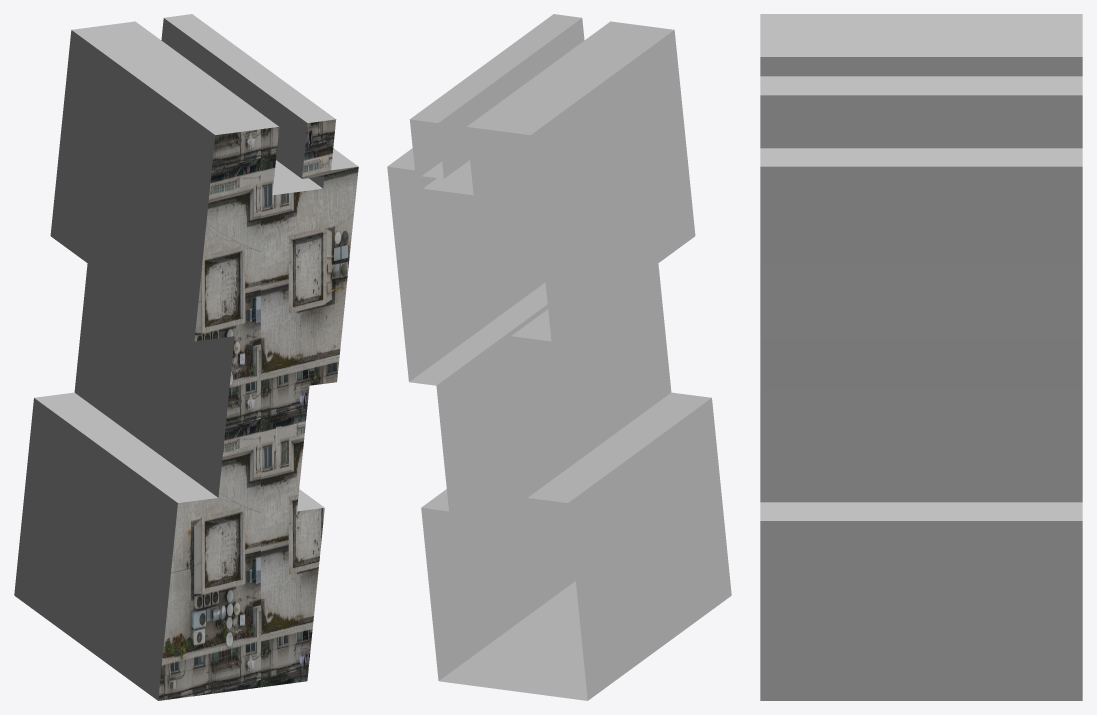
The model's file is geospecific_1419.obj.
3 views of the same model, side by side, from view 1: azimuth 30°, elevation 25°; view 2: azimuth 150°, elevation 25°; view 3: azimuth 270°, elevation 25° (orthographic). The views are drawn at different scales.
Parts seen in each view (by area): view 1: Building; view 2: Building; view 3: Building.
Boxes of the visible parts, bbox=[...] form: Building: bbox=[14, 14, 358, 700]; Building: bbox=[387, 14, 731, 700]; Building: bbox=[760, 14, 1082, 700].
Size of the model in its own units: 9.65 by 26.15 by 12.
